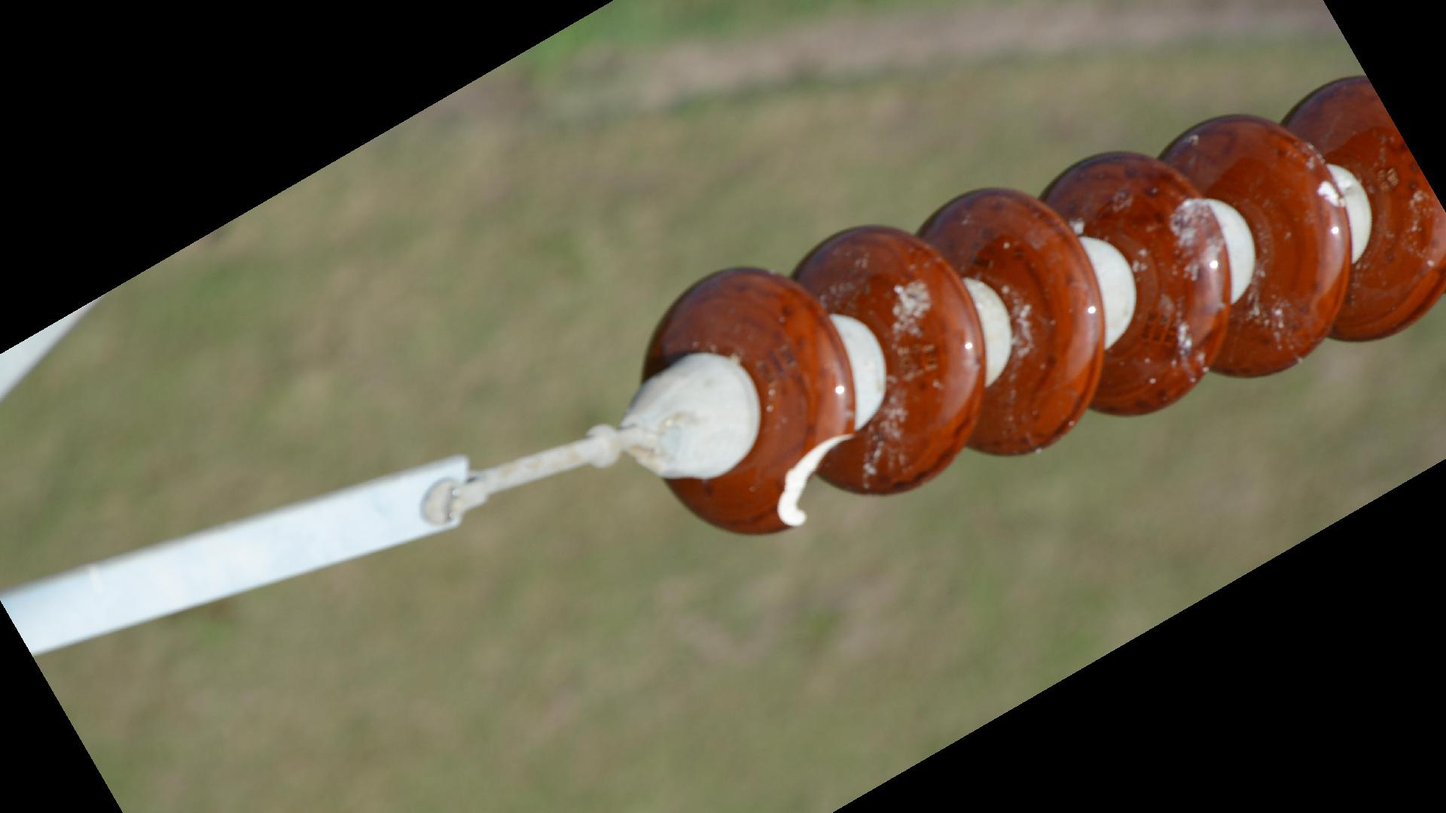insulator: (634, 66, 1446, 546)
insulator_breakage: (772, 424, 862, 535)
